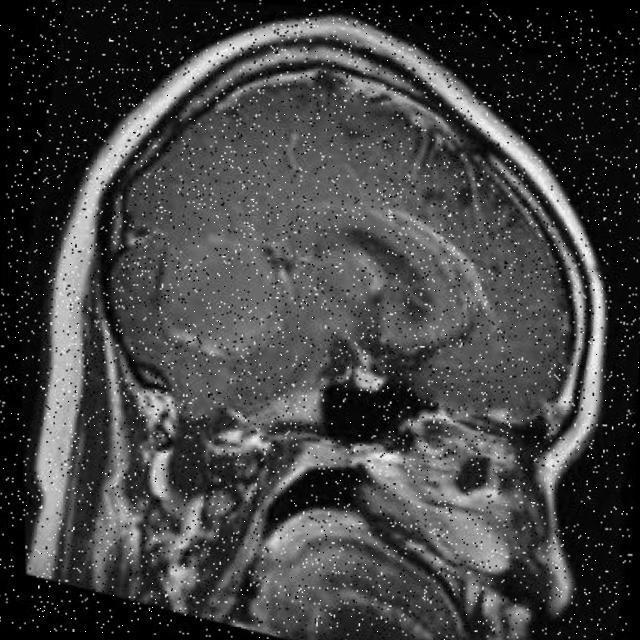CN: (316, 205, 495, 364)
